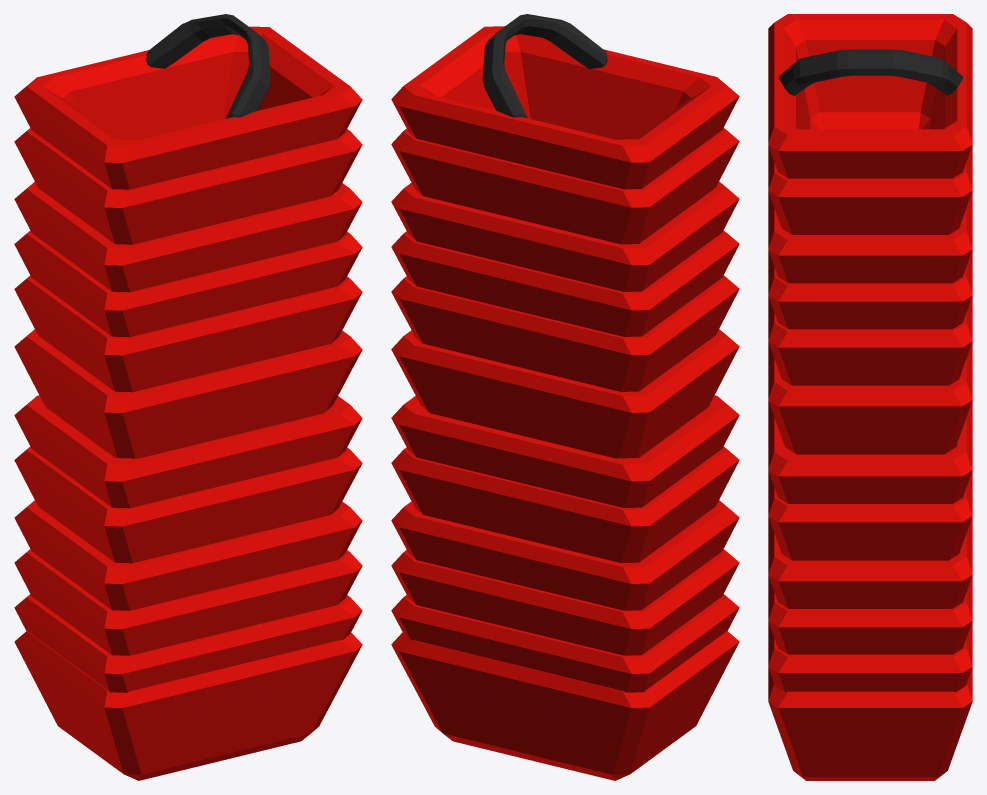
File: market_sepet_coklu.fbx
3 views of the same model, side by side, from view 1: azimuth 30°, elevation 25°; view 2: azimuth 150°, elevation 25°; view 3: azimuth 270°, elevation 25° (orthographic). The views are drawn at different scales.
Parts seen in each view (by area): view 1: market_sepet; view 2: market_sepet; view 3: market_sepet.
Boxes of the visible parts, x1,y1,x2,y2 form: market_sepet: (14,14,362,780); market_sepet: (391,14,739,780); market_sepet: (768,14,972,780).
Bounding box in the file's own units: 346 × 896 × 232.
